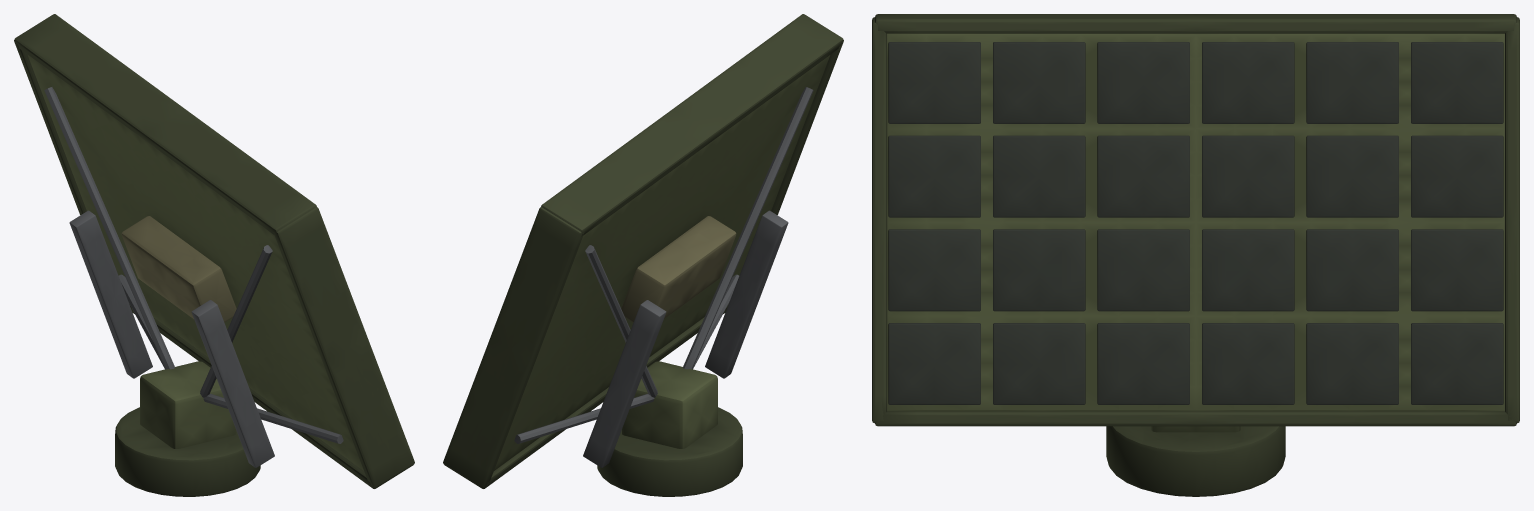
File: radar_head.glb
The picture shows the model from 3 angles, left to right: view 1: azimuth 30°, elevation 25°; view 2: azimuth 150°, elevation 25°; view 3: azimuth 270°, elevation 25°; orthographic projection. The views are drawn at different scales.
Visible parts, largest first — view 1: Cube; view 2: Cube; view 3: Cube.
Boxes of the visible parts, <box> form: Cube: <box>14,14,414,496</box>; Cube: <box>443,14,843,496</box>; Cube: <box>872,14,1519,496</box>.
Bounding box in the file's own units: 1.51 × 3.25 × 4.34.
